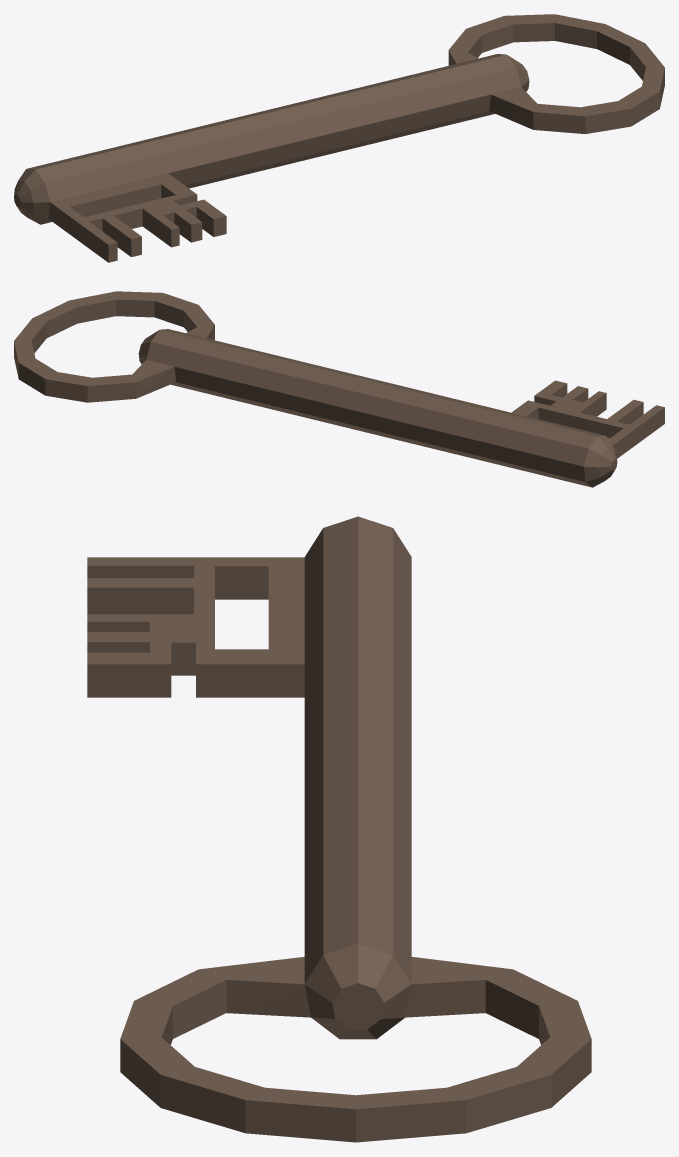
Rendered from Clef.FBX.
The picture shows the model from 3 angles, top to bottom: view 1: azimuth 30°, elevation 25°; view 2: azimuth 150°, elevation 25°; view 3: azimuth 270°, elevation 25°; orthographic projection. The views are drawn at different scales.
Visible parts, largest first — view 1: Clef; view 2: Clef; view 3: Clef.
Part boxes in pixels (x1,y1,x2,y2): Clef: (14, 14, 664, 262); Clef: (14, 291, 664, 487); Clef: (87, 516, 591, 1142).
Bounding box in the file's own units: 12.01 × 0.9423 × 4.5.
Materials: 1 (1 with a texture image).
